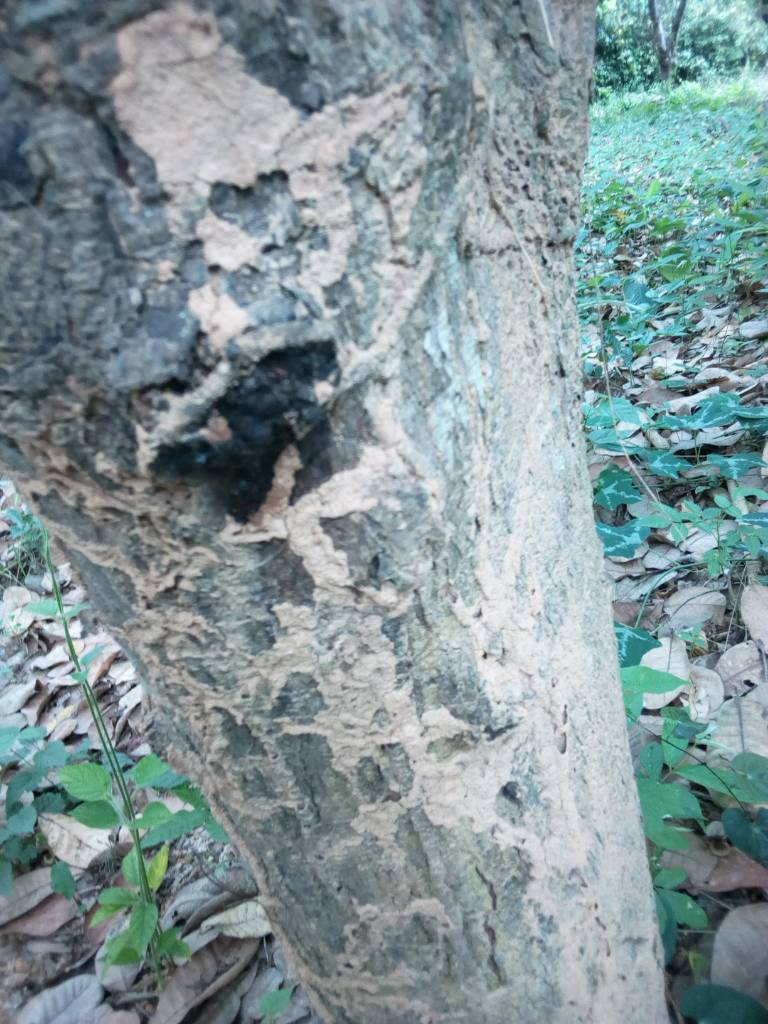Termites: (104, 11, 580, 478), (318, 488, 644, 1017)
